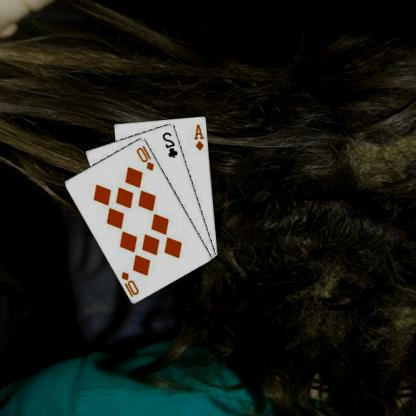10D: (136, 142, 158, 172), (120, 269, 142, 298)
2C: (162, 129, 180, 159)
AD: (193, 122, 207, 151)
